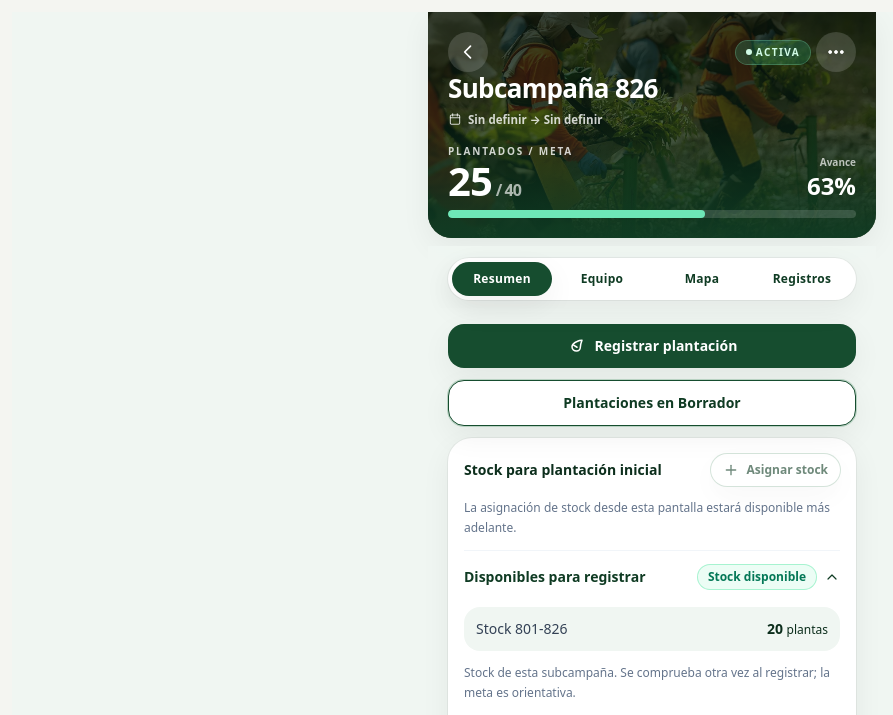
Test: Información de Plantación para ADMIN interno › descarta el retorno a una campaña ajena o destino externo: /app/planting/campanias/999?pestana=mapa&subcampania=826&registro=9007199254740993
Expected: the heading "Subcampaña 826" is shown, 448,70 -> 658,106
Click the button named "Volver".
click(468, 52)  # box 448,32 -> 488,72
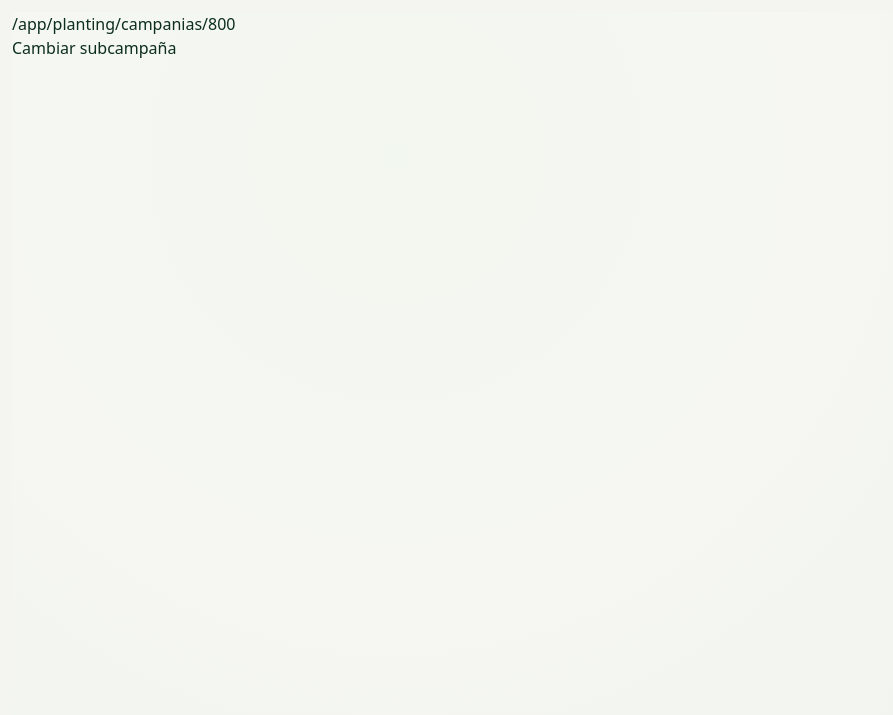
Now the text with test id "campania-destination" reads "/app/planting/campanias/800", box 12,13 -> 236,35
